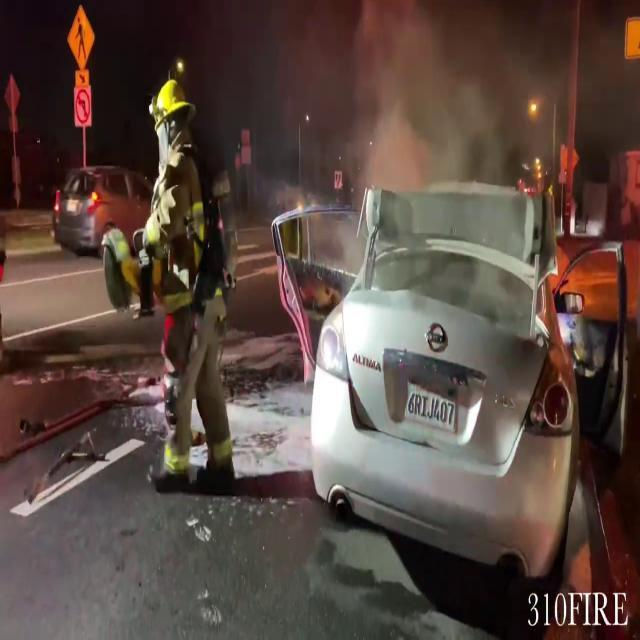Smoke: (337, 0, 540, 196)
